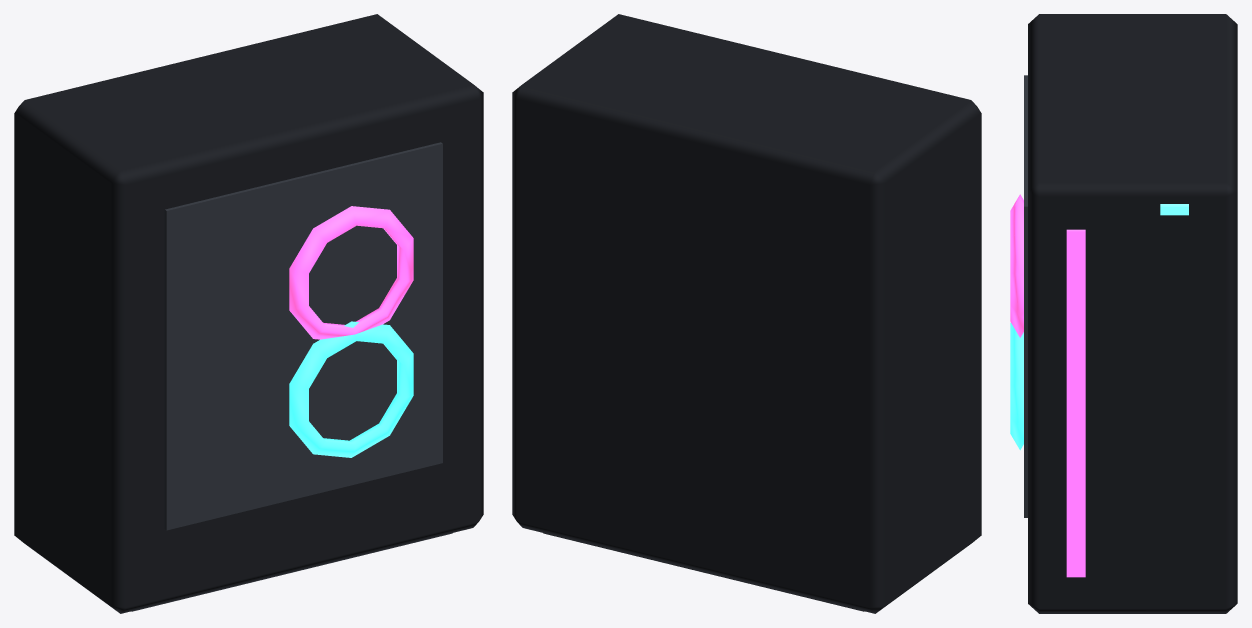
Rendered from station_transport_ausstattung_1_0.glb.
The picture shows the model from 3 angles, left to right: view 1: azimuth 30°, elevation 25°; view 2: azimuth 150°, elevation 25°; view 3: azimuth 270°, elevation 25°; orthographic projection. The views are drawn at different scales.
Visible parts, largest first — view 1: station_transport_ausstattung_1_0; view 2: station_transport_ausstattung_1_0; view 3: station_transport_ausstattung_1_0.
Part boxes in pixels (x1,y1,x2,y2): station_transport_ausstattung_1_0: [14, 14, 483, 613]; station_transport_ausstattung_1_0: [512, 14, 981, 613]; station_transport_ausstattung_1_0: [1010, 14, 1237, 613].
Bounding box in the file's own units: 0.447 × 0.506 × 0.2384.
